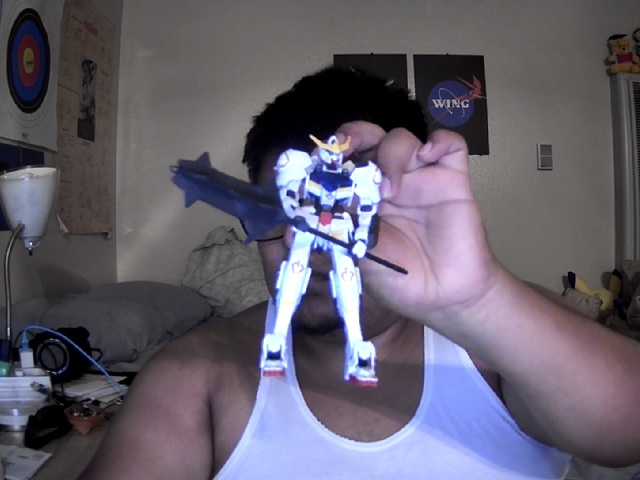Barbatos: (168, 134, 410, 390)
